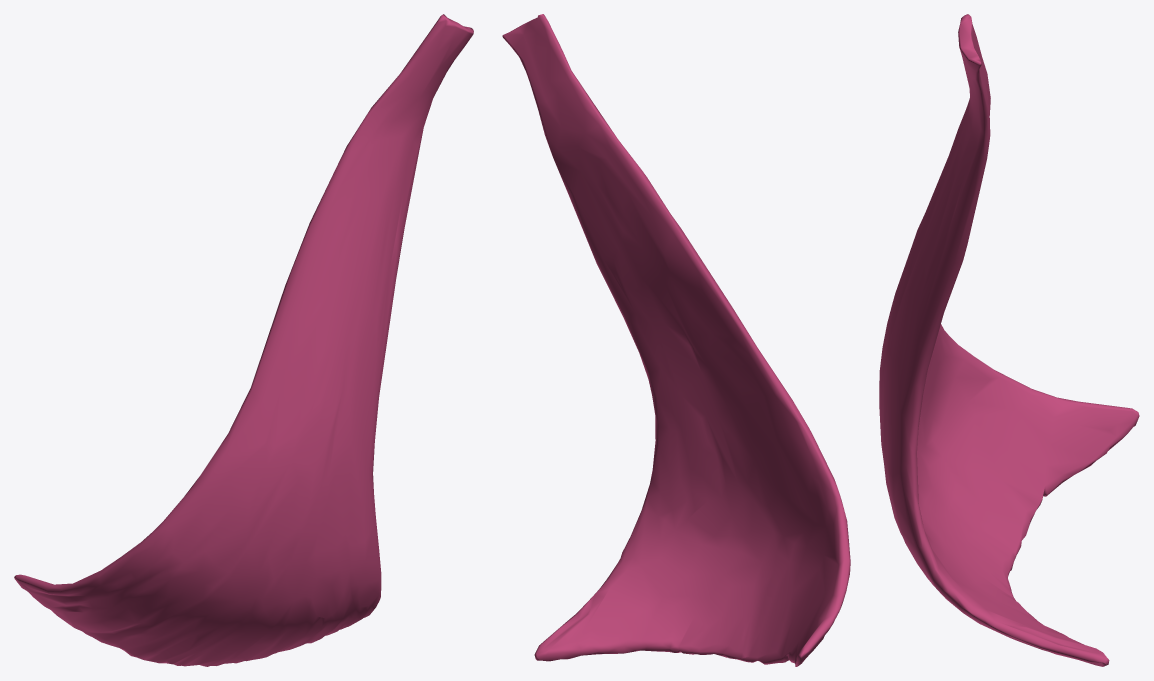
The picture shows the model from 3 angles, left to right: view 1: azimuth 30°, elevation 25°; view 2: azimuth 150°, elevation 25°; view 3: azimuth 270°, elevation 25°; orthographic projection. The views are drawn at different scales.
Parts seen in each view (by area): view 1: 右侧上睑提肌; view 2: 右侧上睑提肌; view 3: 右侧上睑提肌.
Boxes of the visible parts, bbox=[...] form: 右侧上睑提肌: bbox=[14, 14, 473, 666]; 右侧上睑提肌: bbox=[502, 14, 850, 666]; 右侧上睑提肌: bbox=[879, 14, 1139, 666].
Size of the model in its own units: 0.0444 by 0.0678 by 0.0234.
